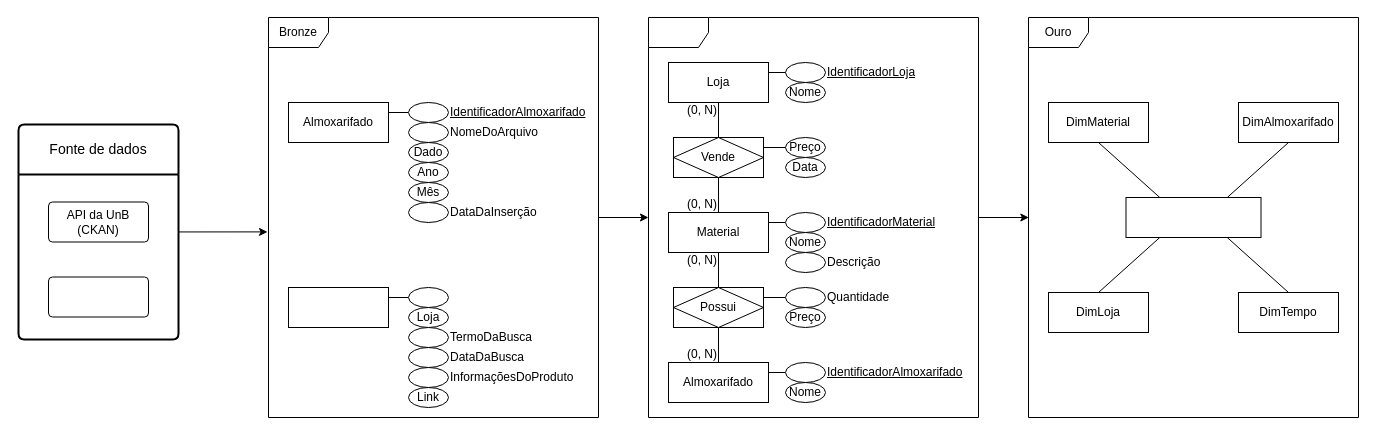
The diagram is 1376 pixels wide and 435 high, and some of its shapes have lost their labels. Each missing label, with the centre of its shape:
Cotação: (338,307)
FatoAvaliacaoEstoque: (1193,217)
IdentificadorCotação: (428,297)
Lojas on-line: (98,296)
Prata: (813,217)
